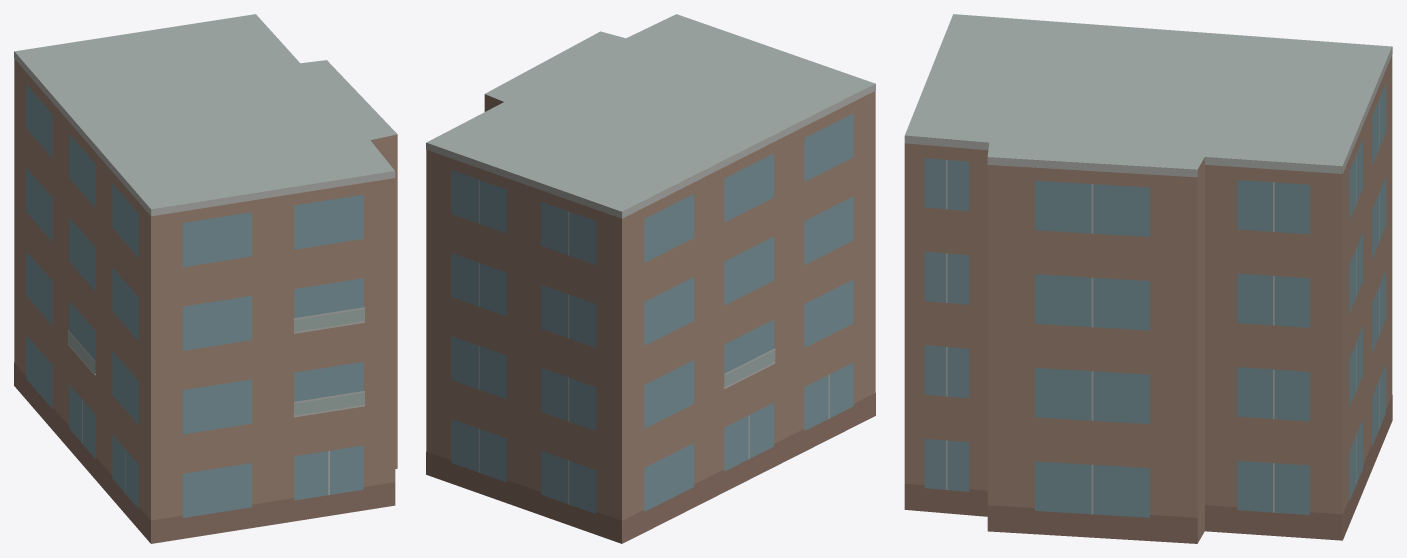
The model's file is survey-upis-32752862.glb.
3 renders of one model, left to right at view 1: azimuth 30°, elevation 25°; view 2: azimuth 150°, elevation 25°; view 3: azimuth 270°, elevation 25°, orthographic. The views are drawn at different scales.
Parts seen in each view (by area): view 1: survey-upis-32752862.tmp; view 2: survey-upis-32752862.tmp; view 3: survey-upis-32752862.tmp.
Boxes of the visible parts, x1,y1,x2,y2 form: survey-upis-32752862.tmp: (14, 14, 397, 543); survey-upis-32752862.tmp: (426, 14, 875, 543); survey-upis-32752862.tmp: (904, 14, 1392, 543).
Bounding box in the file's own units: 10.44 × 11.7 × 13.83.
